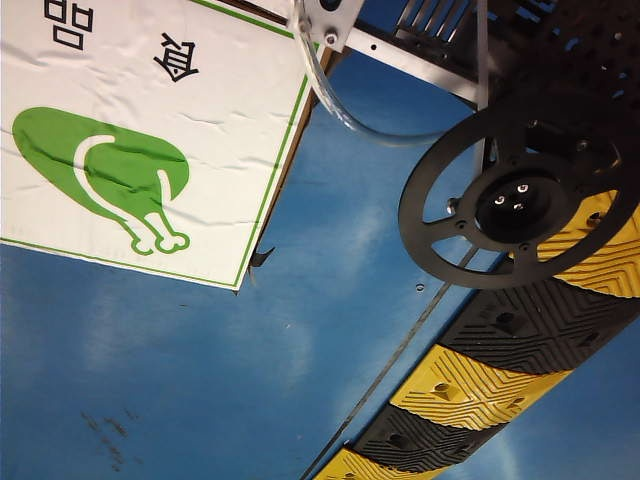Cube_food: (2, 4, 301, 268)
